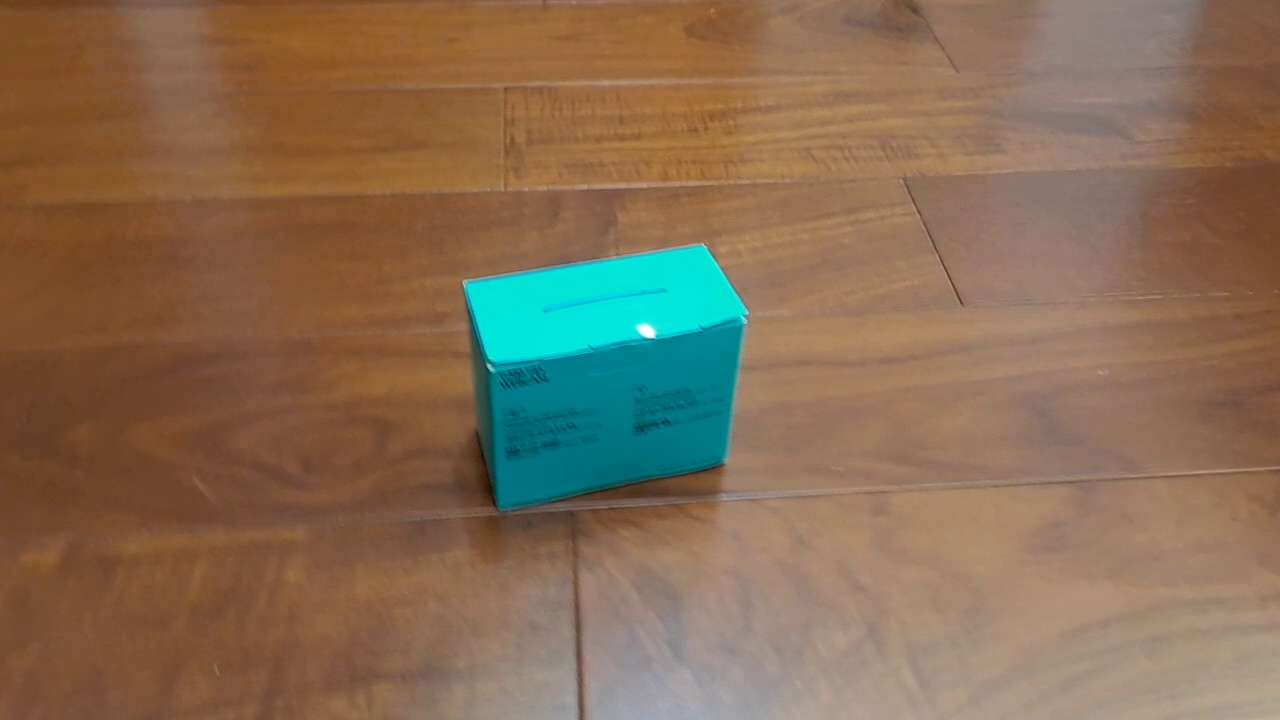webcam: (460, 242, 750, 515)
